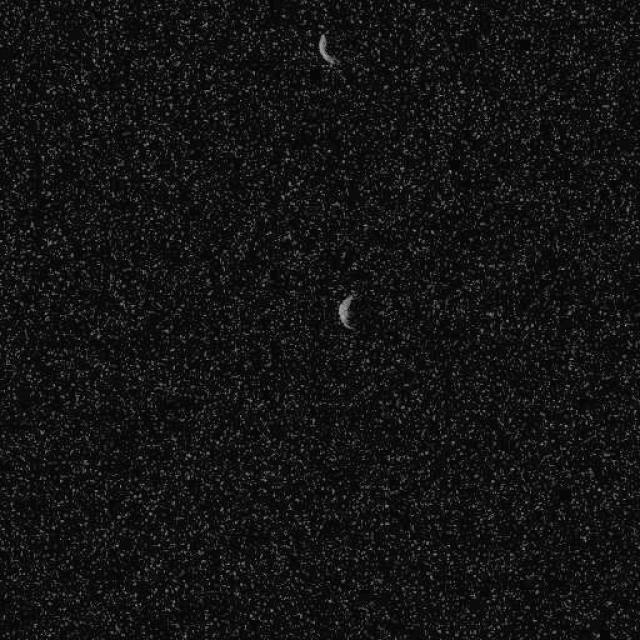D2: (336, 291, 360, 331), (316, 32, 339, 66)
